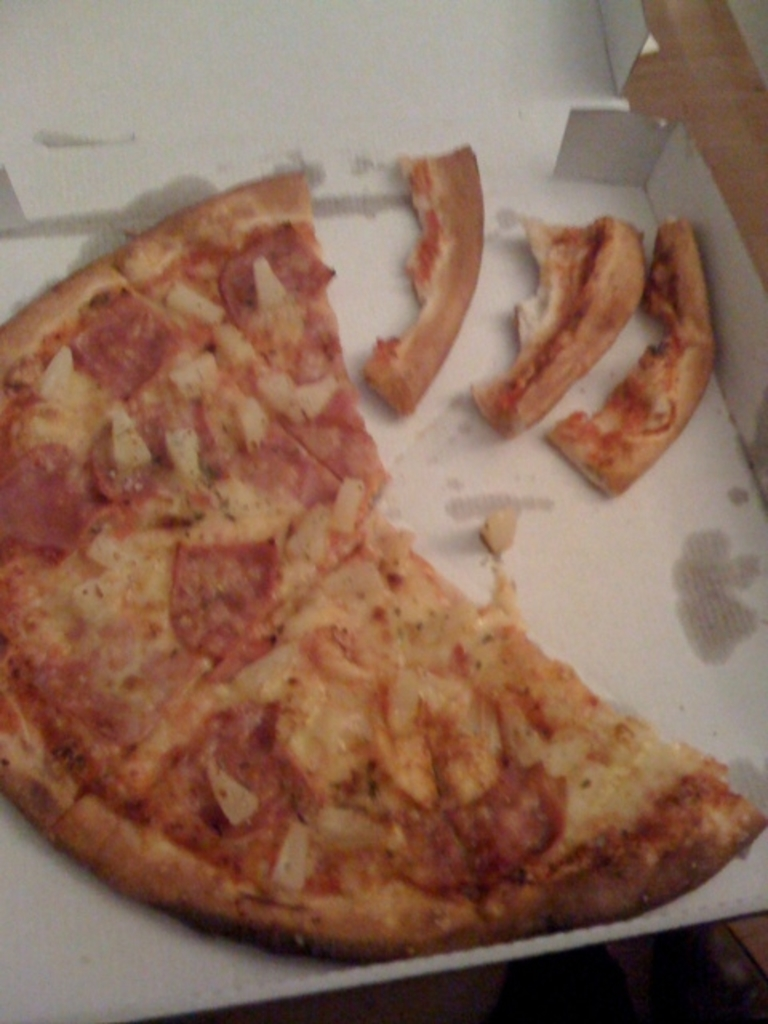Pizza: (17, 182, 734, 950)
